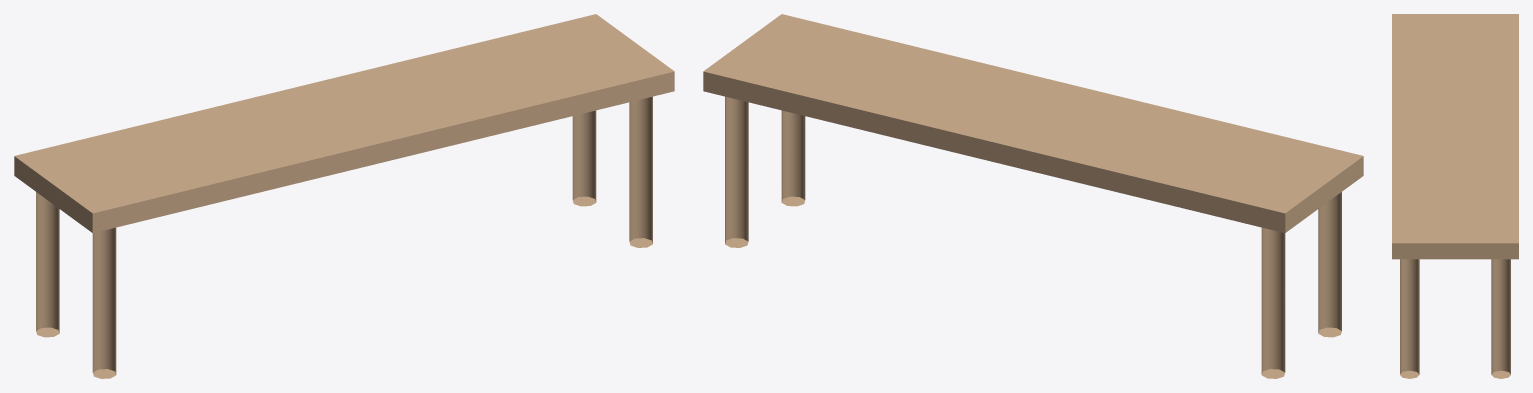
File: bench_10.glb
3 views of the same model, side by side, from view 1: azimuth 30°, elevation 25°; view 2: azimuth 150°, elevation 25°; view 3: azimuth 270°, elevation 25° (orthographic). The views are drawn at different scales.
Bounding box in the file's own units: 1.54 × 0.44 × 0.36.
